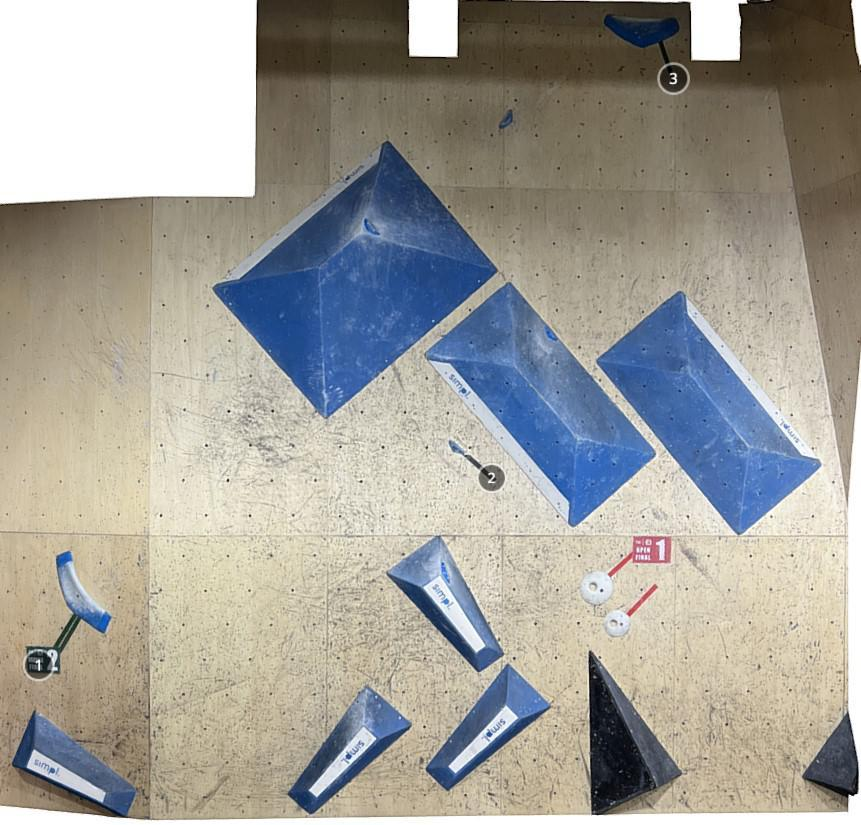hold: (212, 140, 499, 419), (422, 281, 658, 530), (595, 290, 823, 536), (288, 683, 414, 815), (425, 662, 551, 792), (386, 535, 505, 672), (11, 708, 136, 818), (56, 550, 112, 634), (603, 14, 680, 49), (581, 571, 614, 605), (604, 610, 630, 637), (498, 109, 513, 130), (364, 217, 381, 235), (545, 325, 560, 340)
volume: (589, 647, 685, 816), (801, 710, 860, 795)
